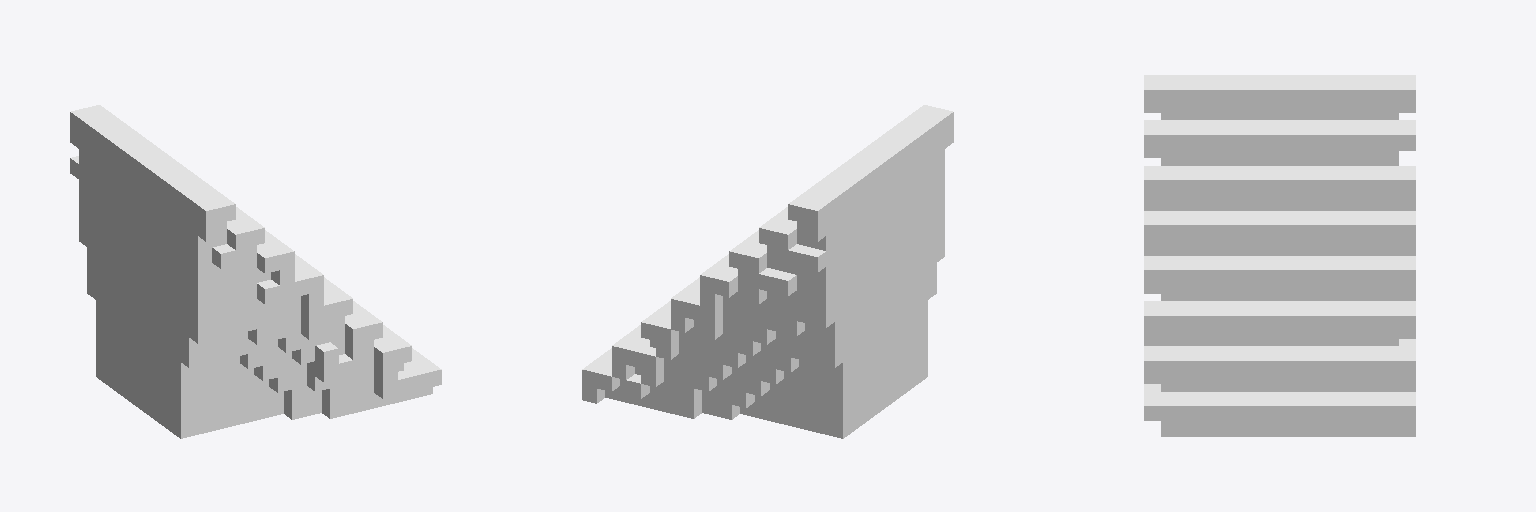
The model's file is WinterGrass-17.obj.
3 renders of one model, left to right at view 1: azimuth 30°, elevation 25°; view 2: azimuth 150°, elevation 25°; view 3: azimuth 270°, elevation 25°, orthographic.
Parts seen in each view (by area): view 1: object 1; view 2: object 1; view 3: object 1.
Part boxes in pixels (x1,y1,x2,y2): object 1: (70,105,441,438); object 1: (582,105,953,438); object 1: (1144,75,1415,436).
Bounding box in the file's own units: 1.6 × 1.6 × 1.6.